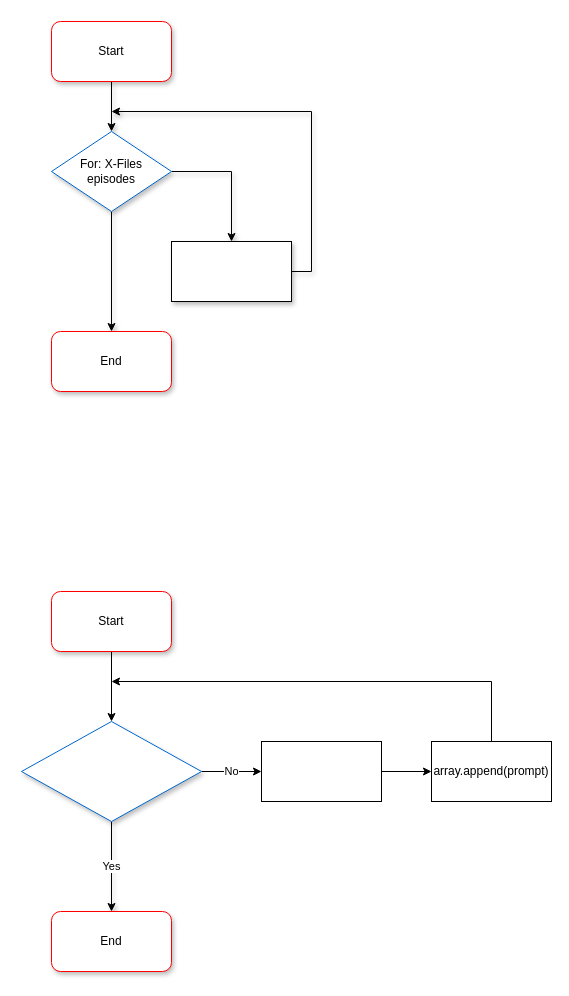
Some shapes in this 569 by 996 pixel diagram are drawn without their labels. The centre of each missing label's shape, as x and y in pixels:
prompt = exit?: the point at 112,772
prompt = user_input: the point at 321,771
Watch: the point at 232,272
